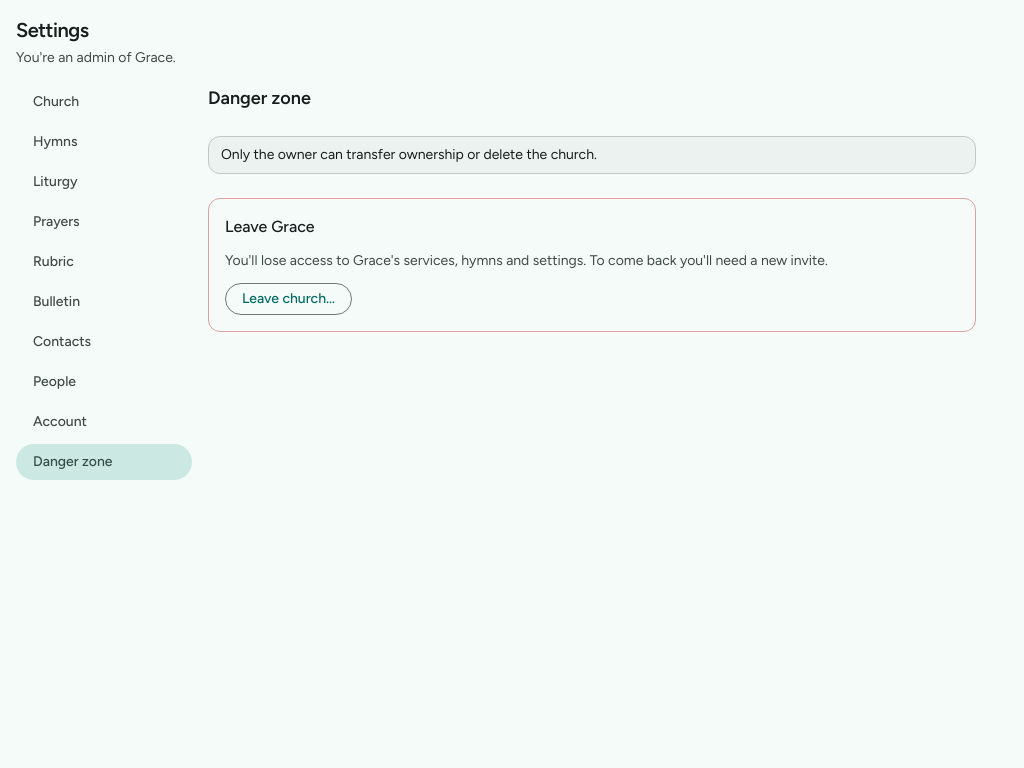
Test: Settings → Danger zone: admins and members (slice 6b-2b) › toasts the server's refusal, closes the dialog and stays
What coordinates should you click on to do the following:
click the button "Leave church…"
I would click on:
 (288, 299)
Its box is [225, 283, 352, 315].
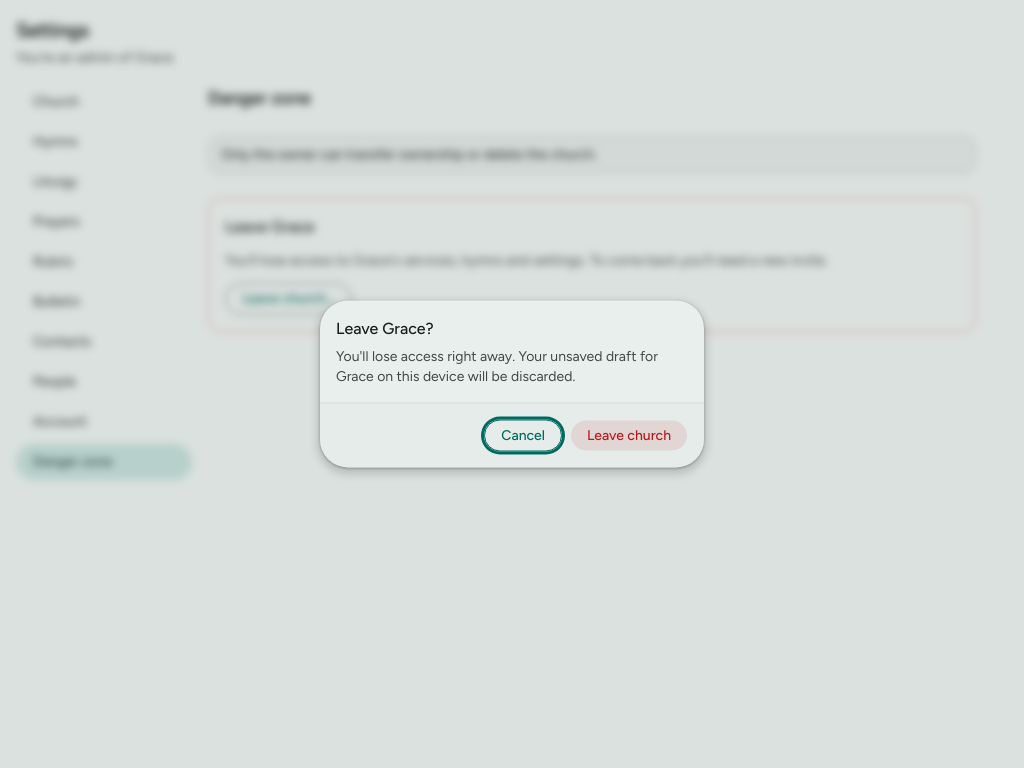
What coordinates should you click on to do the following:
click the button "Leave church"
I would click on:
 (629, 436)
Its box is [570, 420, 688, 452].
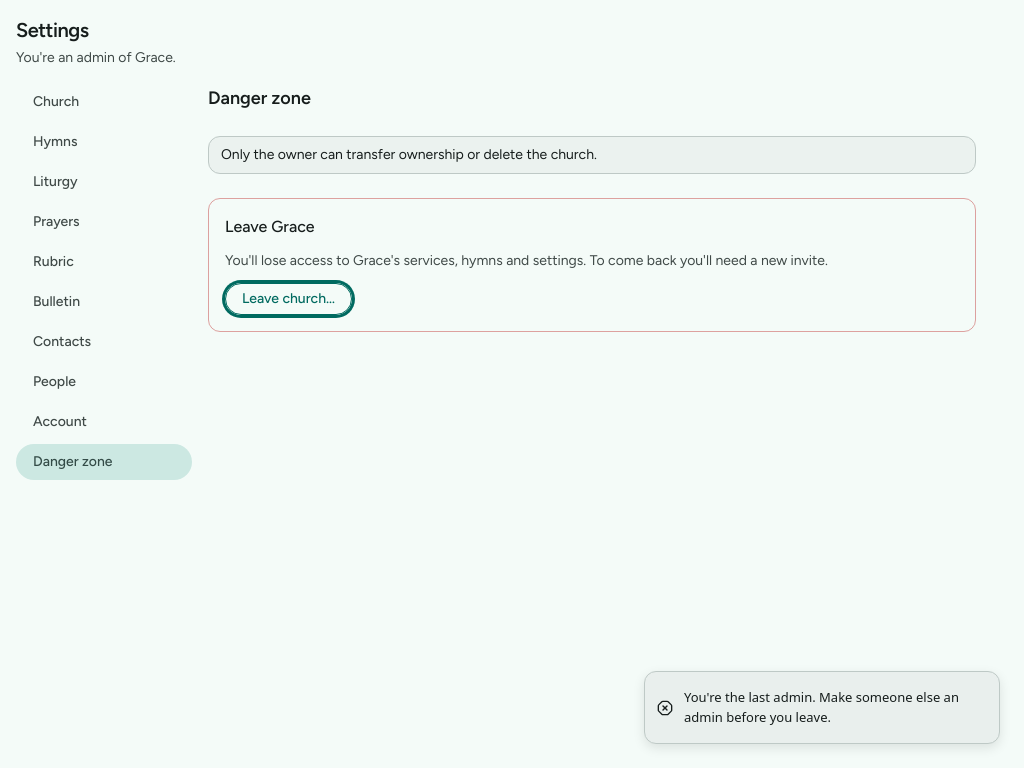
Expected: the heading "Leave Grace" is shown, [225, 217, 315, 236]
Result: the text "You're the last admin. Make someone else an admin before you leave." is shown at [684, 688, 983, 727]
Result: the dialog is gone
